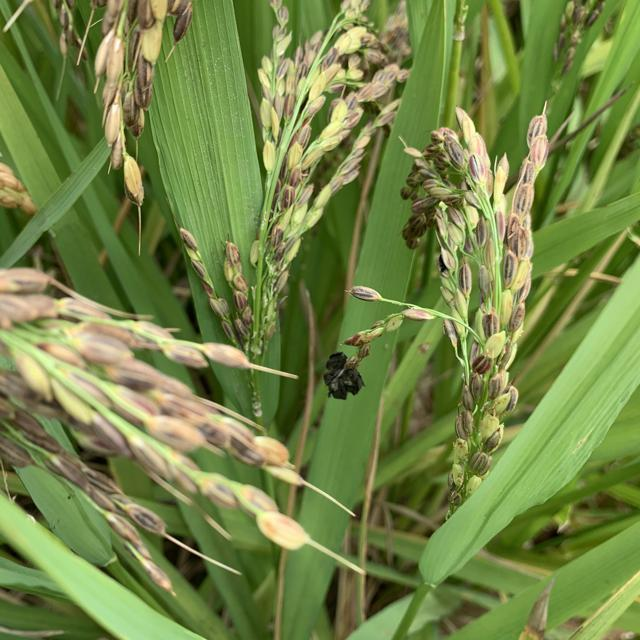Leaf_Scald: (320, 348, 367, 404)
